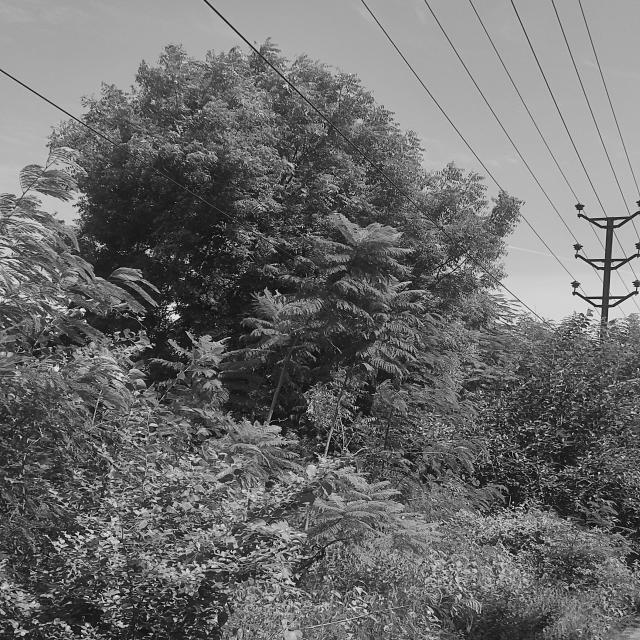Neem-Tree: (70, 41, 392, 226)
